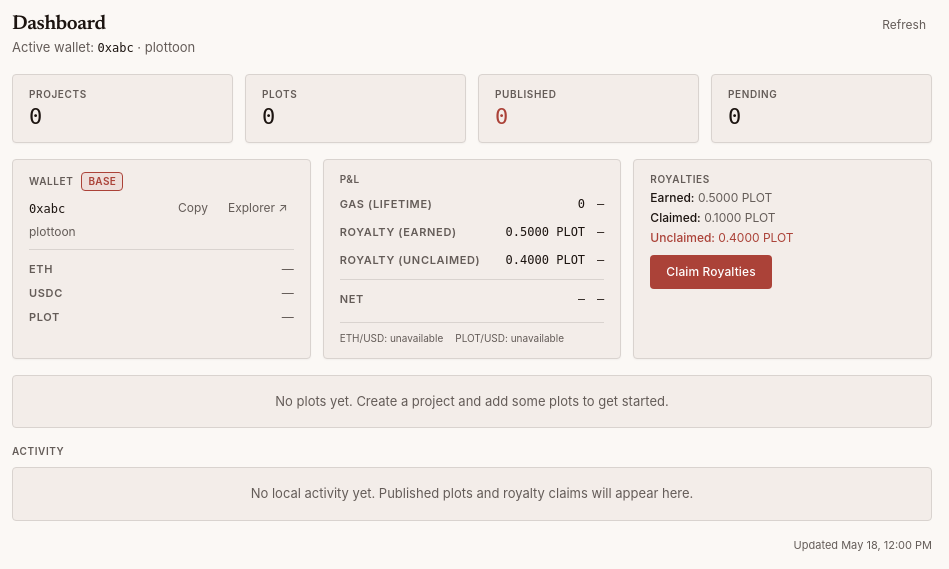
Dashboard › executes claim and shows success
Click the button "Claim Royalties" at [711, 272], box top-left (650, 255), bottom-right (772, 289)
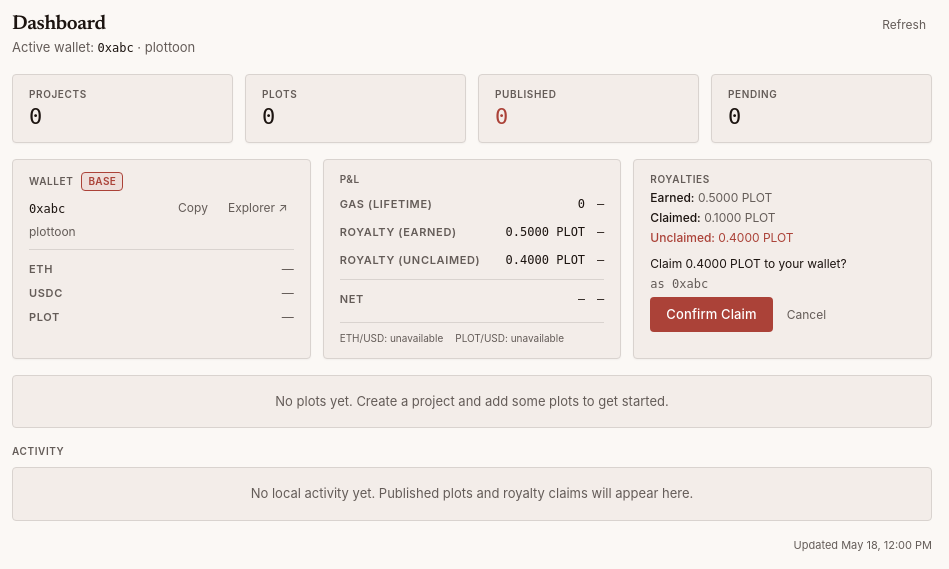
Expected: the button "Confirm Claim" is shown
Click the button "Confirm Claim" at [712, 315], box top-left (650, 297), bottom-right (773, 332)
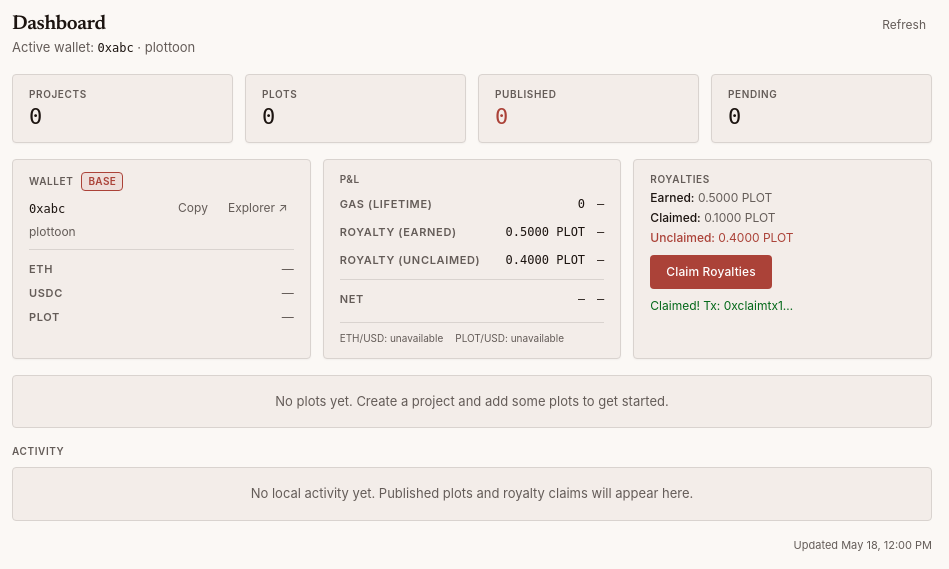
Expected: the text "Claimed! Tx: 0xclaimtx1…" is shown, top-left (650, 298), bottom-right (793, 313)
